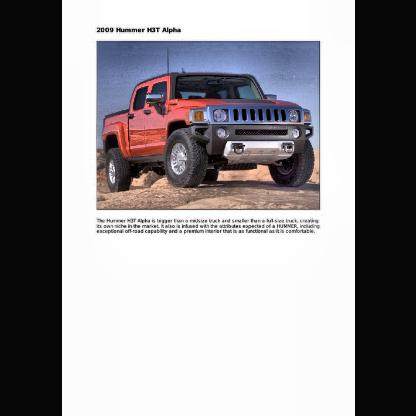HUMMER H3T Crew Cab 2010: (102, 72, 316, 195)
